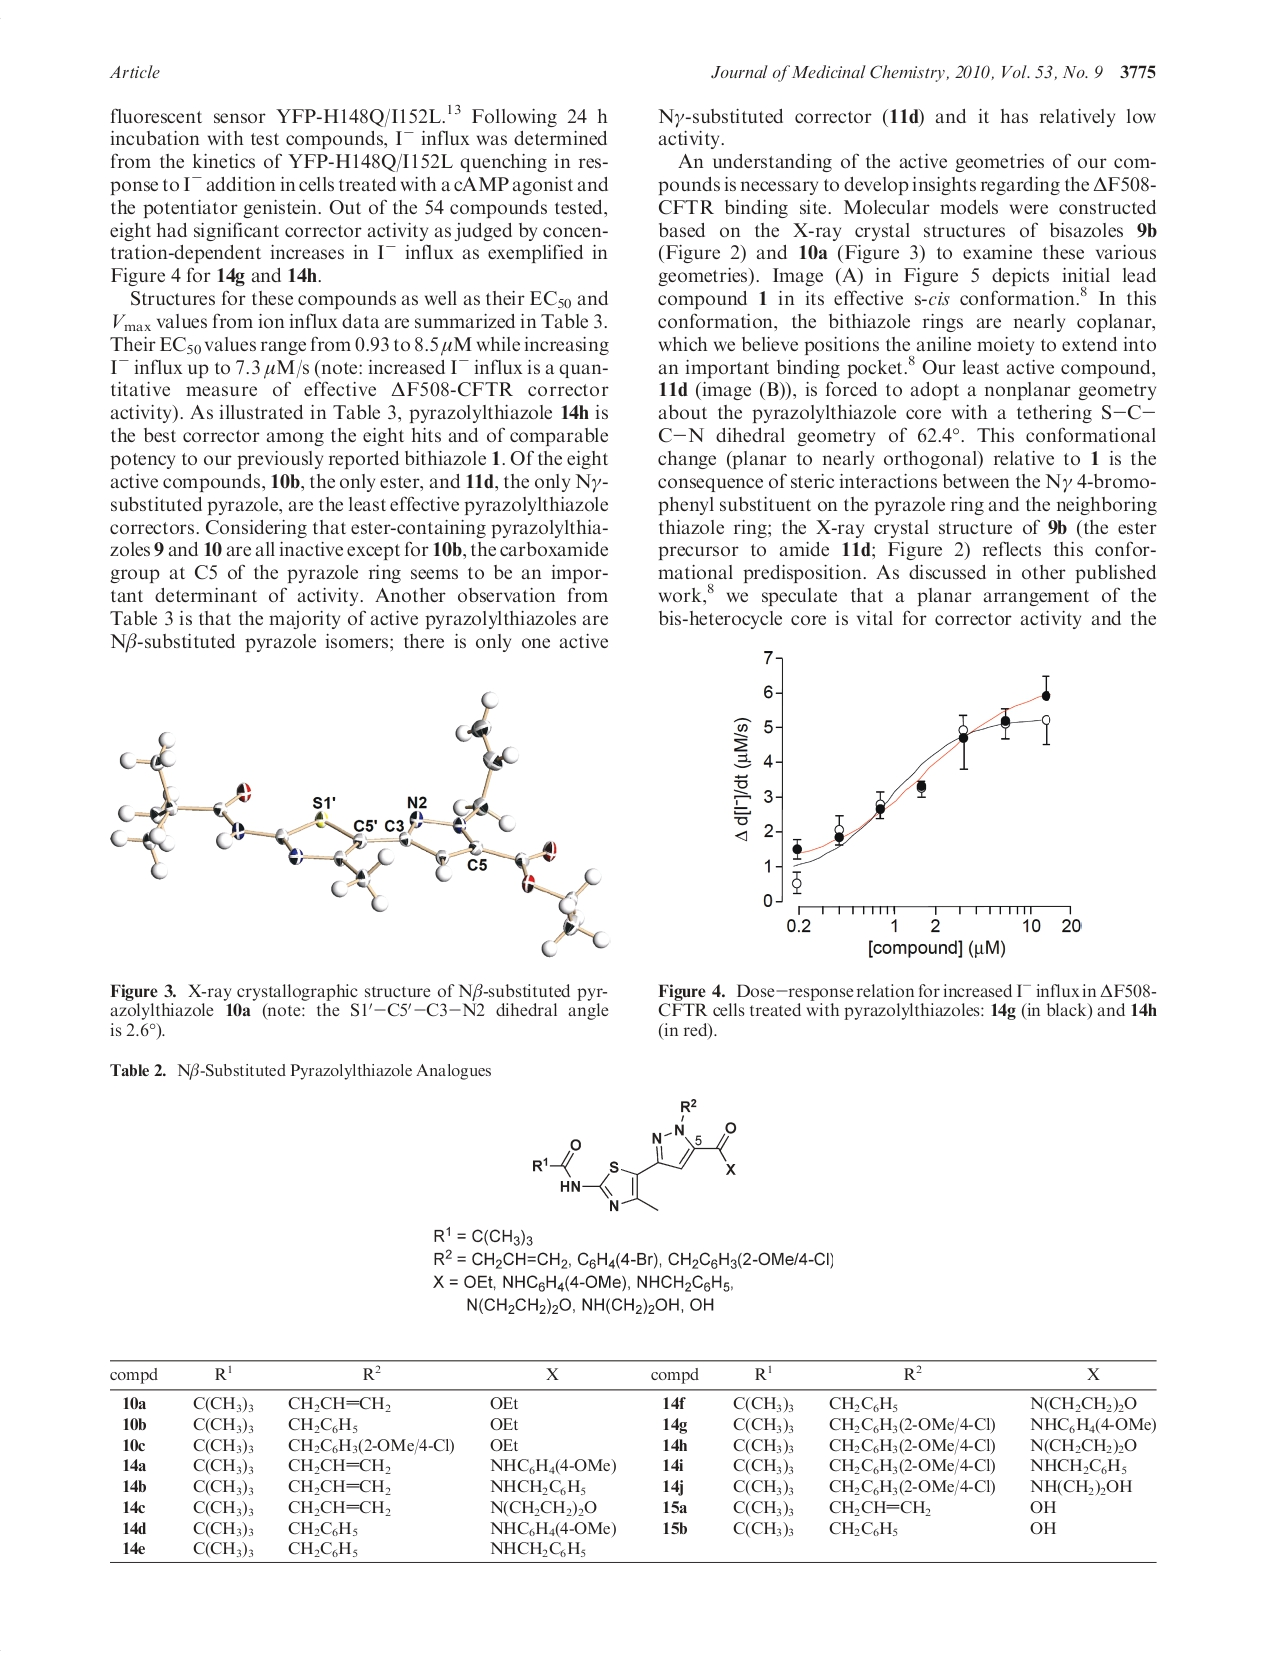exist_molecular: (532, 1094, 743, 1214)
